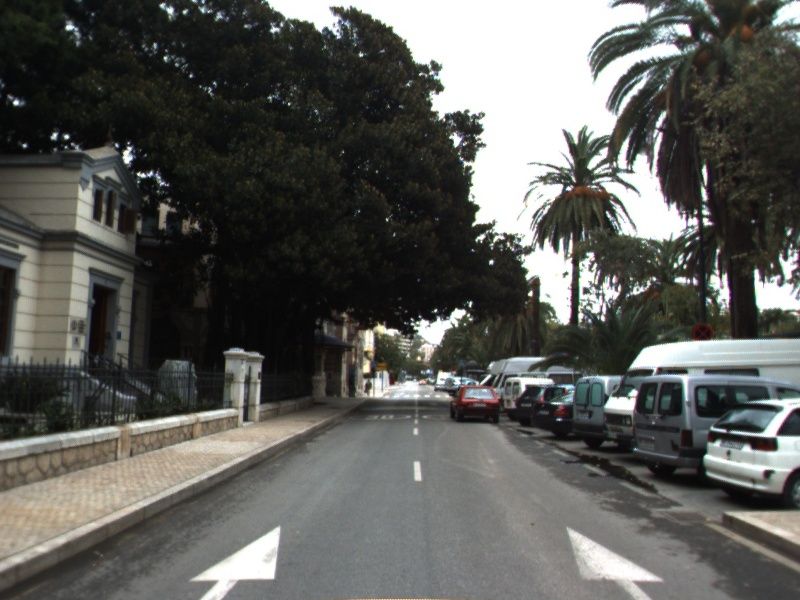STRAIGHT: (563, 523, 671, 600), (184, 521, 285, 600)
